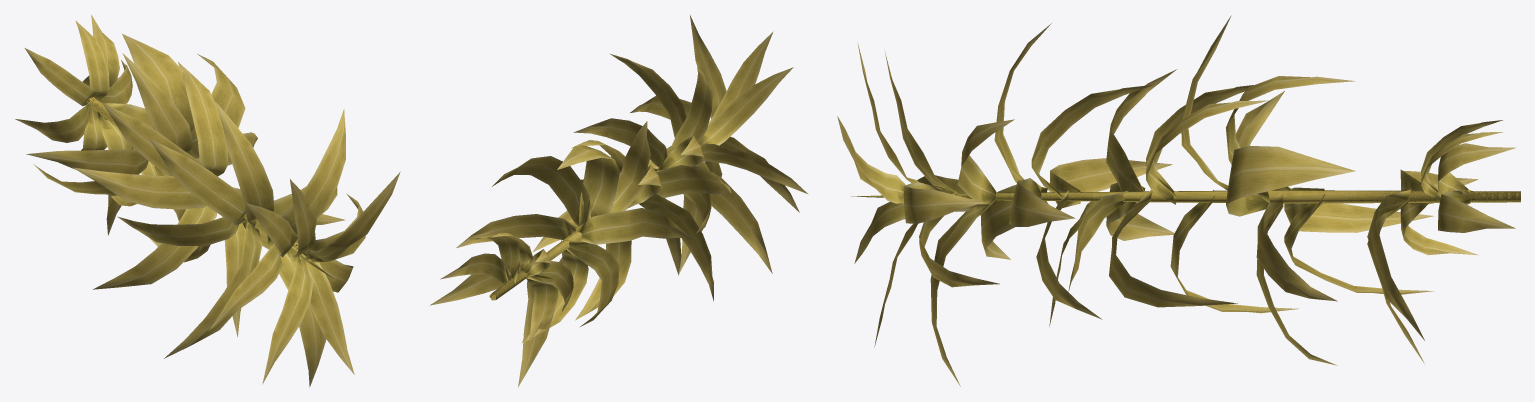
The model's file is CornPlant.obj.
3 views of the same model, side by side, from view 1: azimuth 30°, elevation 25°; view 2: azimuth 150°, elevation 25°; view 3: azimuth 270°, elevation 25° (orthographic). The views are drawn at different scales.
Parts seen in each view (by area): view 1: Plane.006_Maize_0, Plane.032_Maize_0, Plane.003_Maize_0.001, Plane.007_Maize_0, Plane.006_Maize_0.001, Plane.045_Maize_0, Plane.003_Maize_0, Plane.042_Maize_0.001, Plane.052_Maize_0, Plane.052_Maize_0.001, Plane.002_Maize_0, Plane.032_Maize_0.001 (+22 smaller); view 2: Plane.045_Maize_0.001, Plane.042_Maize_0.001, Plane.042_Maize_0, Plane.051_Maize_0, Plane.044_Maize_0.001, Plane.006_Maize_0.001, Plane.045_Maize_0, Plane.002_Maize_0, Plane.006_Maize_0, Plane.043_Maize_0, Plane.051_Maize_0.001, Plane.003_Maize_0.001 (+23 smaller); view 3: Plane.042_Maize_0, Cylinder_Maize_0, Plane.033_Maize_0.001, Plane.043_Maize_0, Plane.032_Maize_0.001, Plane.044_Maize_0.001, Plane.032_Maize_0, Plane.050_Maize_0.001, Plane.048_Maize_0.001, Plane.006_Maize_0, Plane.003_Maize_0, Plane.046_Maize_0 (+25 smaller).
Boxes of the visible parts, box(x1,y1,x2,y2) form: Plane.006_Maize_0: box(73, 167, 206, 209); Plane.032_Maize_0: box(149, 138, 246, 224); Plane.003_Maize_0.001: box(215, 101, 273, 226); Plane.007_Maize_0: box(177, 61, 228, 176); Plane.006_Maize_0.001: box(93, 205, 216, 289); Plane.045_Maize_0: box(122, 53, 192, 153); Plane.003_Maize_0: box(281, 109, 345, 234); Plane.042_Maize_0.001: box(122, 34, 194, 131); Plane.052_Maize_0: box(262, 255, 313, 384); Plane.052_Maize_0.001: box(288, 244, 354, 374); Plane.002_Maize_0: box(164, 222, 262, 358); Plane.032_Maize_0.001: box(117, 216, 238, 245); Plane.045_Maize_0.001: box(575, 208, 693, 244); Plane.042_Maize_0.001: box(557, 145, 619, 226); Plane.042_Maize_0: box(492, 156, 590, 227); Plane.051_Maize_0: box(699, 67, 793, 145); Plane.044_Maize_0.001: box(456, 214, 577, 247); Plane.006_Maize_0.001: box(639, 194, 713, 301); Plane.045_Maize_0: box(608, 121, 650, 213); Plane.002_Maize_0: box(693, 166, 772, 273); Plane.006_Maize_0: box(656, 165, 731, 197); Plane.043_Maize_0: box(565, 239, 619, 327); Plane.051_Maize_0.001: box(701, 144, 808, 194); Plane.003_Maize_0.001: box(670, 67, 712, 152); Plane.042_Maize_0: box(1226, 146, 1355, 216); Cylinder_Maize_0: box(851, 190, 1520, 203); Plane.033_Maize_0.001: box(1109, 190, 1237, 307); Plane.043_Maize_0: box(1284, 187, 1433, 232); Plane.032_Maize_0.001: box(1049, 158, 1172, 207); Plane.044_Maize_0.001: box(1256, 191, 1337, 301); Plane.032_Maize_0: box(1031, 84, 1154, 201); Plane.050_Maize_0.001: box(903, 182, 984, 223); Plane.048_Maize_0.001: box(1367, 189, 1424, 340); Plane.006_Maize_0: box(1106, 69, 1176, 202); Plane.003_Maize_0: box(957, 119, 1014, 204); Plane.046_Maize_0: box(1438, 190, 1515, 232).
Size of the model in its own units: 1.01 by 1.07 by 2.
1 material, 1 textured.
